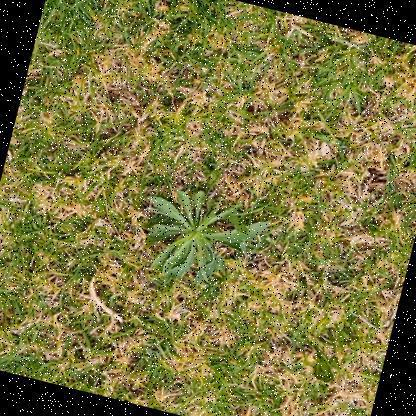Weeds: (129, 179, 274, 300)
